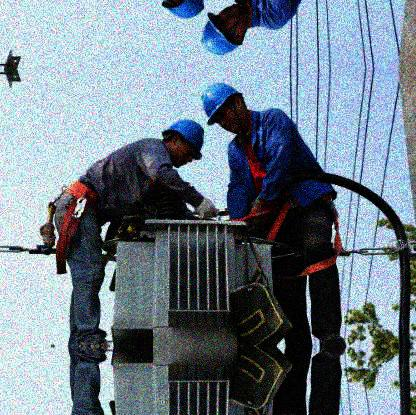helmet: (200, 83, 249, 134), (160, 117, 206, 169)
